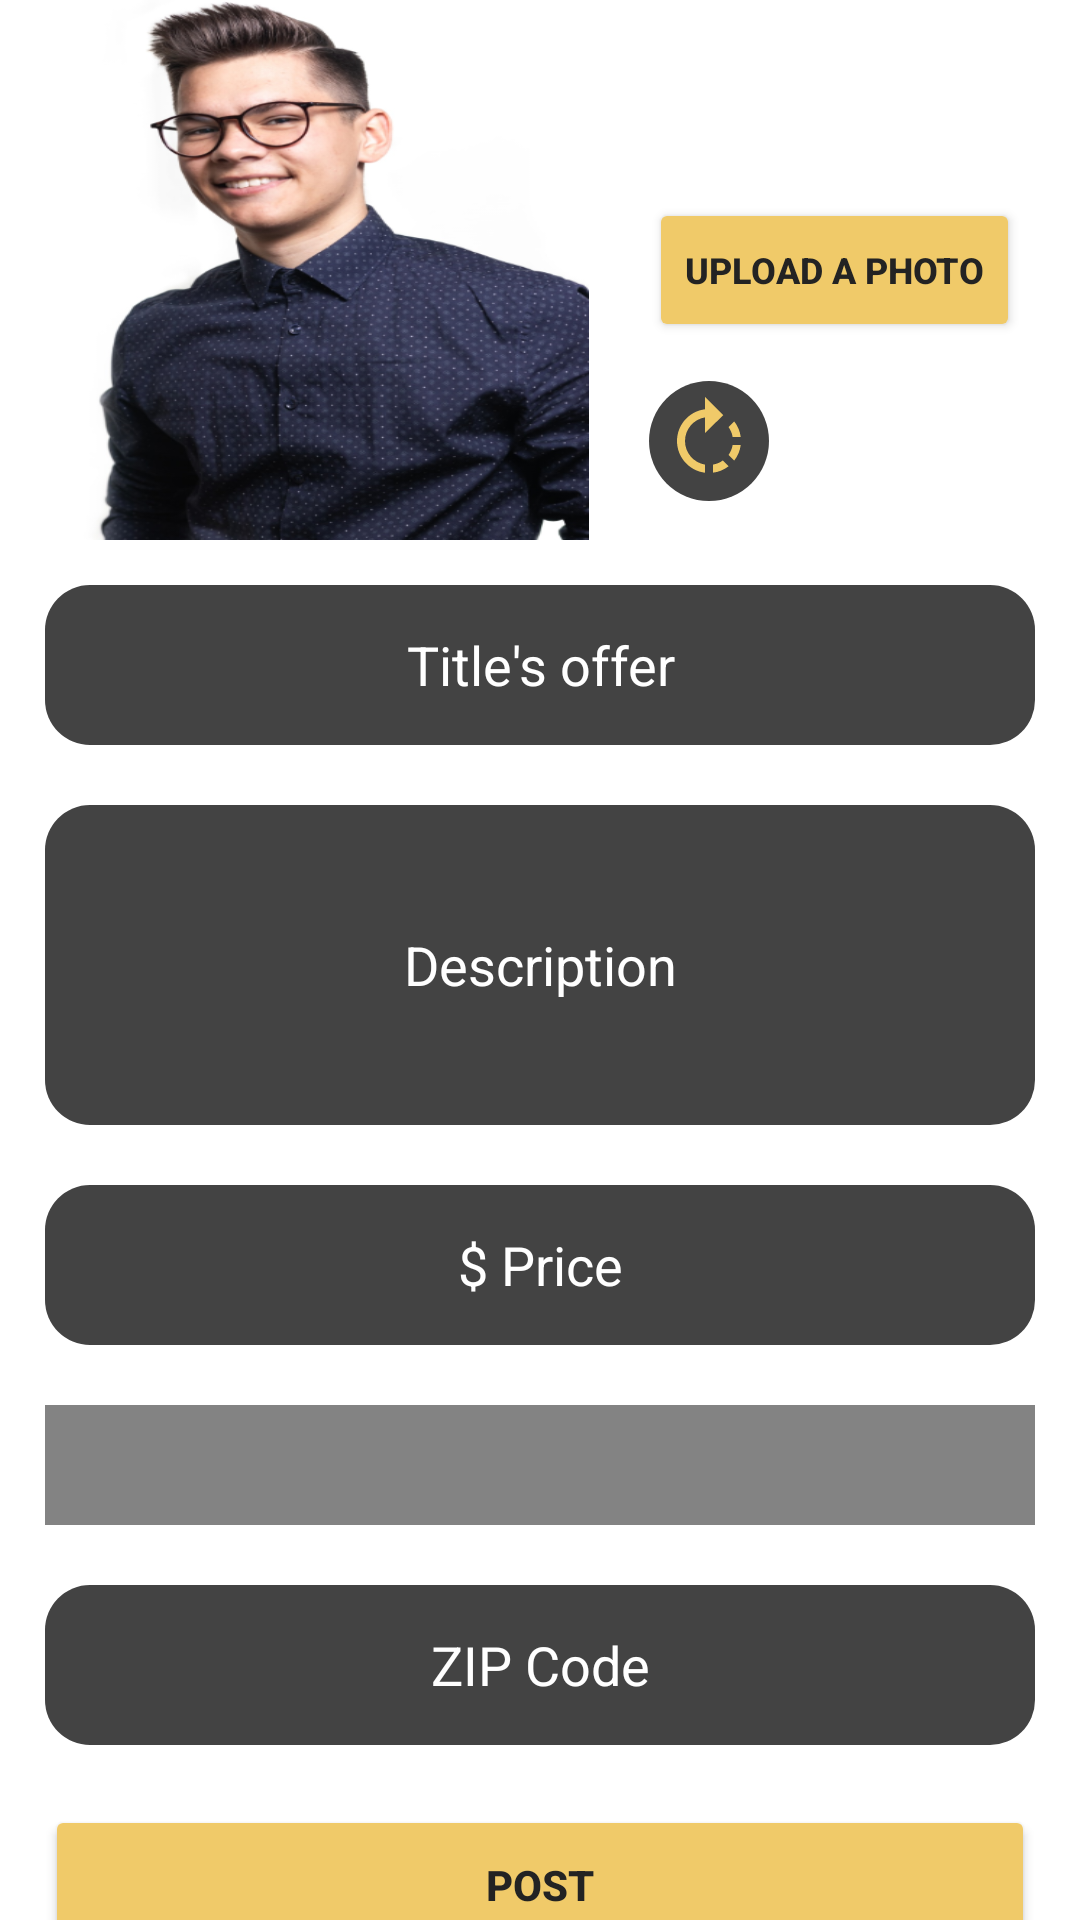

Locate icon controls on the screen. Image size 1080px x 1920px, boxes as (x1, y1, x2, y2).
rotate: (649, 381, 769, 501)
